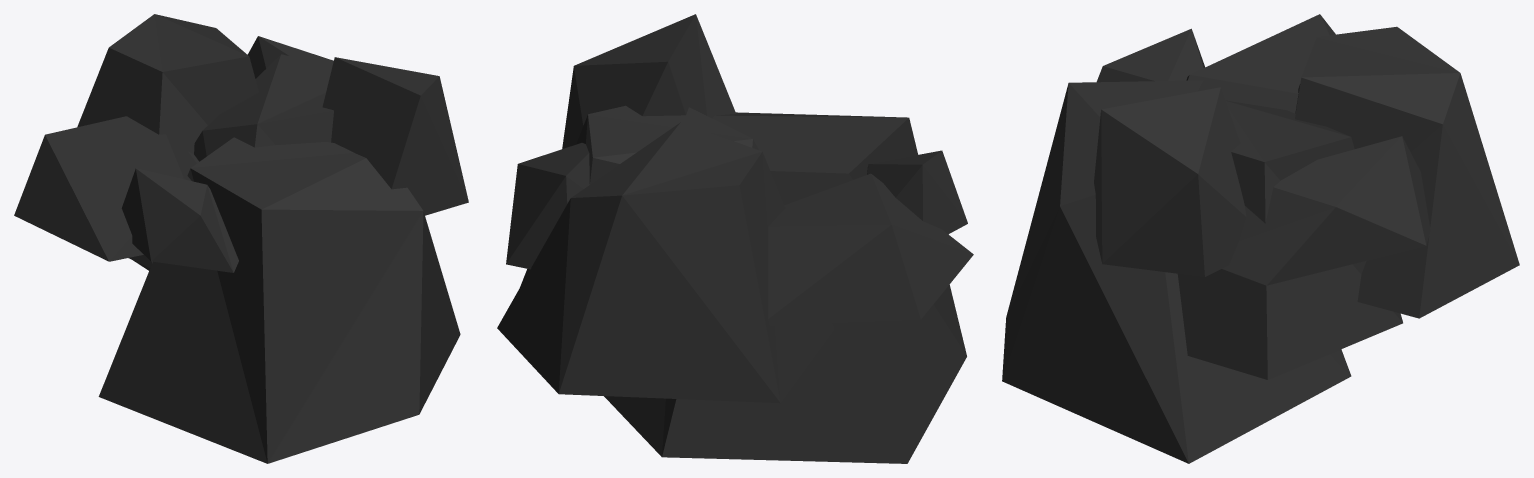
File: CoalPileBag.fbx
The picture shows the model from 3 angles, left to right: view 1: azimuth 30°, elevation 25°; view 2: azimuth 150°, elevation 25°; view 3: azimuth 270°, elevation 25°; orthographic projection. The views are drawn at different scales.
Visible parts, largest first — view 1: CoalPileBag; view 2: CoalPileBag; view 3: CoalPileBag.
Part boxes in pixels (<box>): CoalPileBag: <box>14,14,468,463</box>; CoalPileBag: <box>497,14,973,463</box>; CoalPileBag: <box>1002,14,1519,463</box>.
Size of the model in its own units: 33.2 by 24.25 by 35.78.
